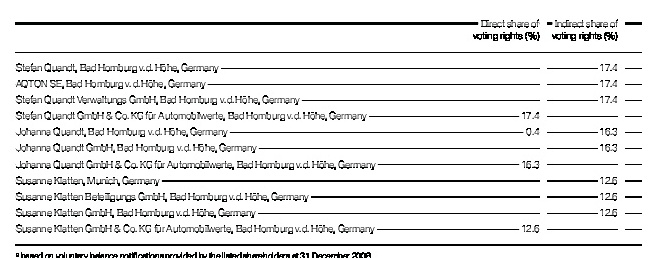table: (0, 0, 661, 258)
